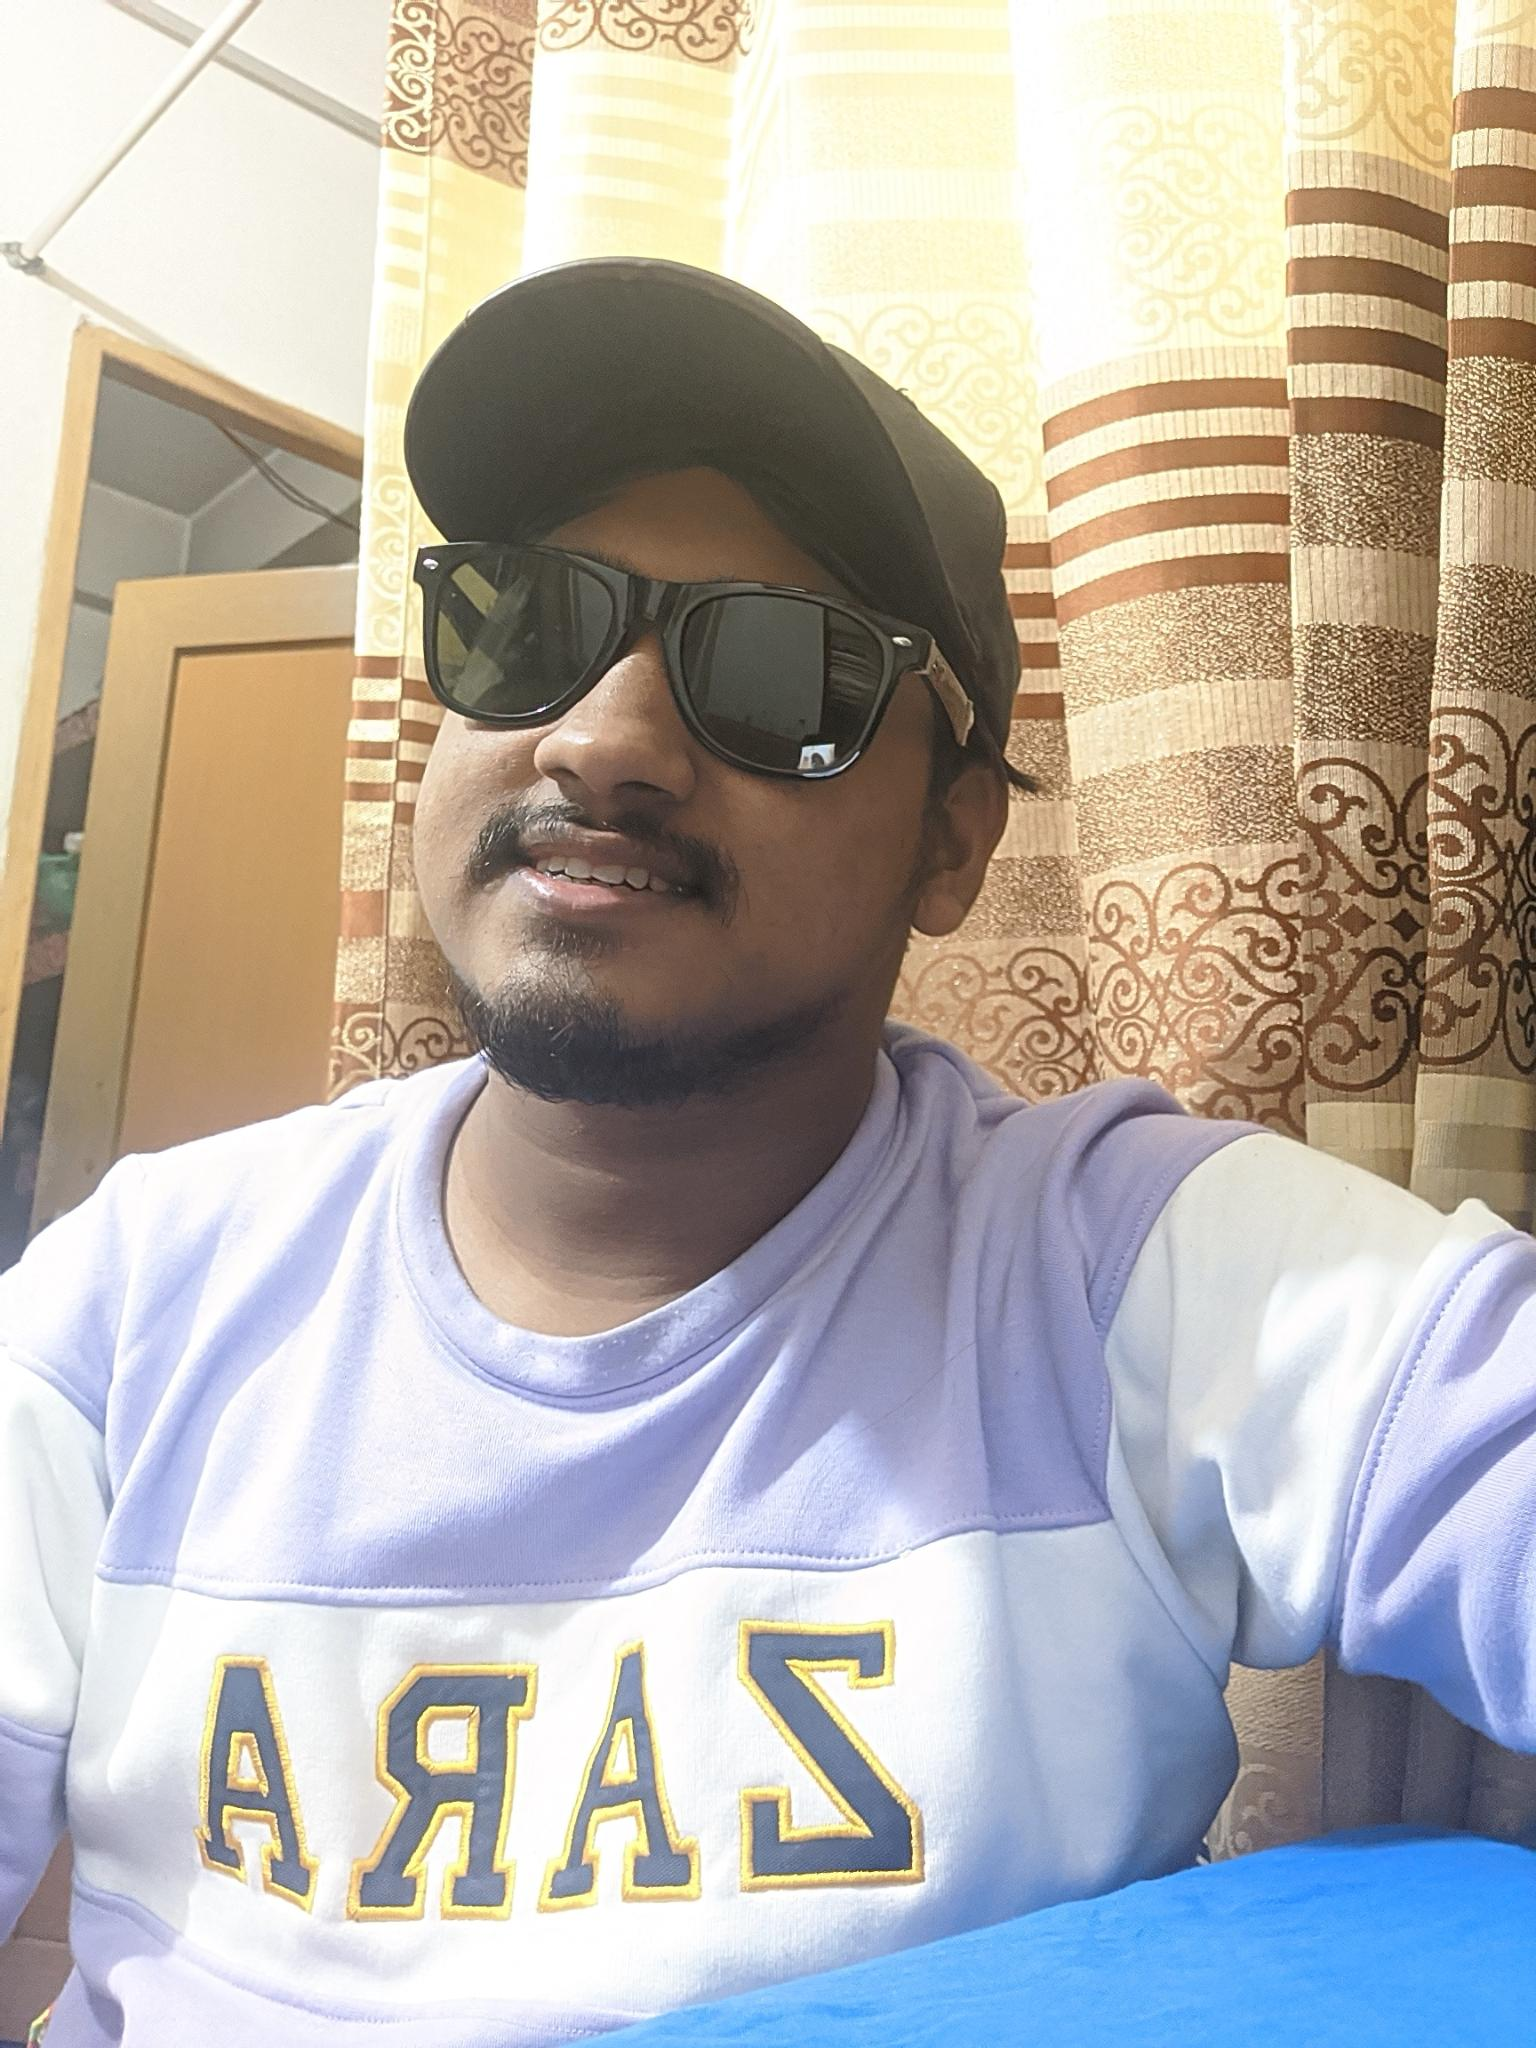Happy: (402, 498, 902, 1066)
